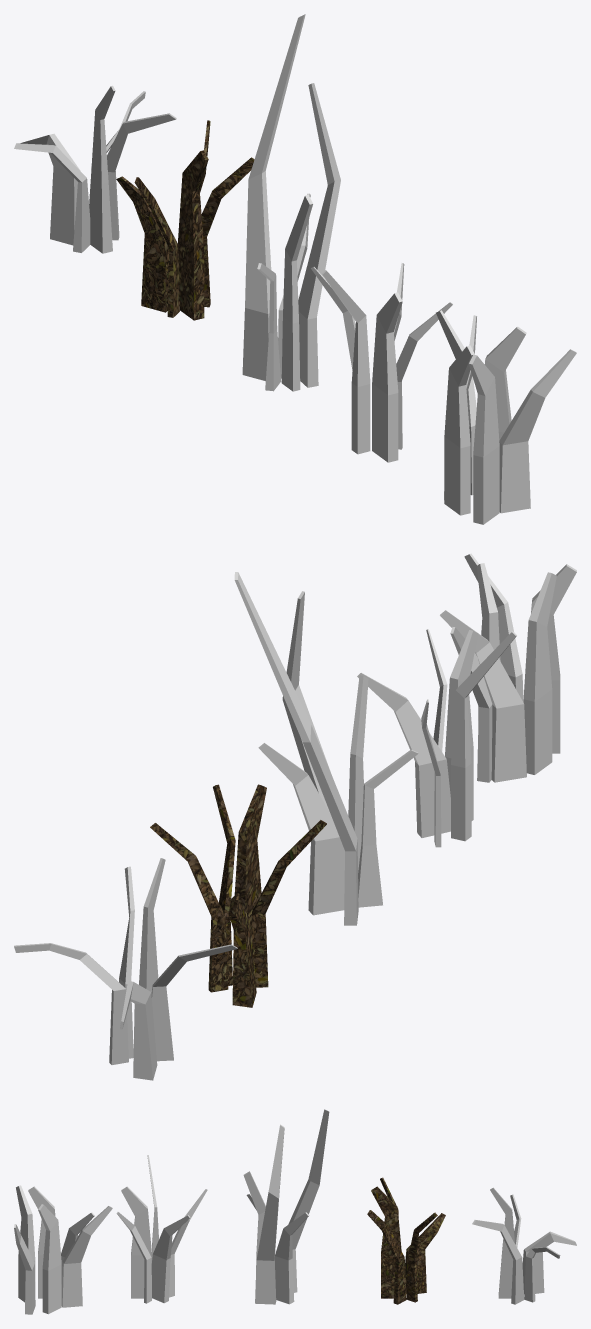
File: ForestGrass.fbx
The picture shows the model from 3 angles, top to bottom: view 1: azimuth 30°, elevation 25°; view 2: azimuth 150°, elevation 25°; view 3: azimuth 270°, elevation 25°; orthographic projection. The views are drawn at different scales.
Visible parts, largest first — view 1: Cube.009, Cube.010, Cube.008, Cube.011, Cube.080, Cube.007, Cube.079; view 2: Cube.009, Cube.008, Cube.010, Cube.011, Cube.007, Cube.080, Cube.079; view 3: Cube.009, Cube.008, Cube.010, Cube.011, Cube.079, Cube.080, Cube.007.
Boxes of the visible parts, box(x1,y1,x2,y2) form: Cube.009: box(242, 14, 340, 391); Cube.010: box(116, 120, 254, 320); Cube.008: box(311, 263, 452, 462); Cube.011: box(14, 85, 176, 253); Cube.080: box(469, 349, 576, 524); Cube.007: box(444, 315, 476, 515); Cube.079: box(436, 310, 526, 495); Cube.009: box(234, 572, 418, 925); Cube.008: box(357, 629, 516, 847); Cube.010: box(150, 784, 326, 1007); Cube.011: box(14, 858, 237, 1080); Cube.007: box(440, 572, 556, 782); Cube.080: box(464, 553, 576, 753); Cube.079: box(450, 563, 500, 782); Cube.009: box(243, 1109, 329, 1304); Cube.008: box(116, 1155, 207, 1303); Cube.010: box(367, 1177, 445, 1304); Cube.011: box(472, 1187, 576, 1304); Cube.079: box(38, 1204, 112, 1314); Cube.080: box(14, 1185, 35, 1314); Cube.007: box(28, 1186, 94, 1298).
Size of the model in its own units: 242 by 424 by 1037.
